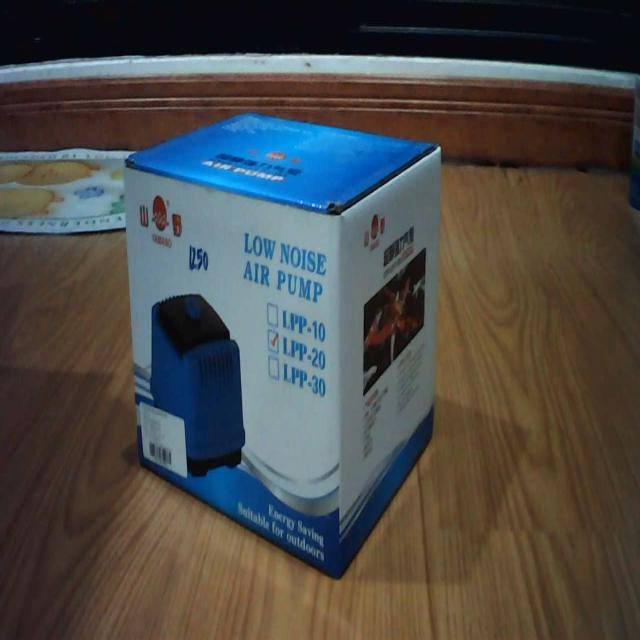YAMANO_LPP_20: (119, 97, 449, 589)
